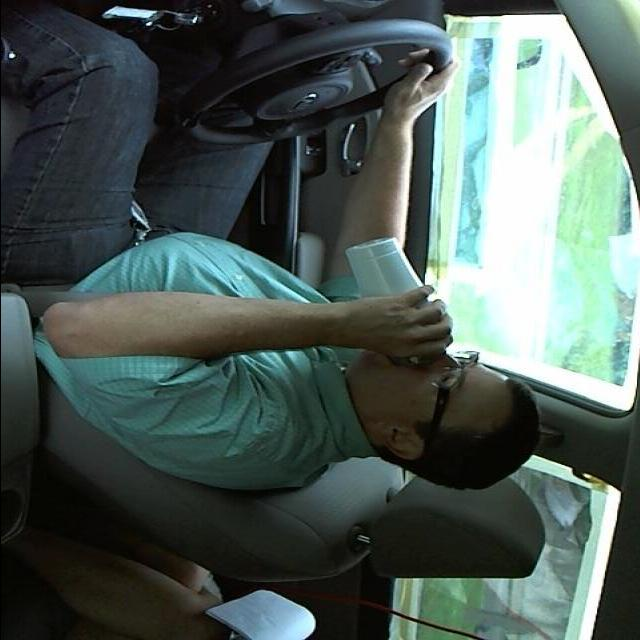drinking: (342, 234, 453, 354)
